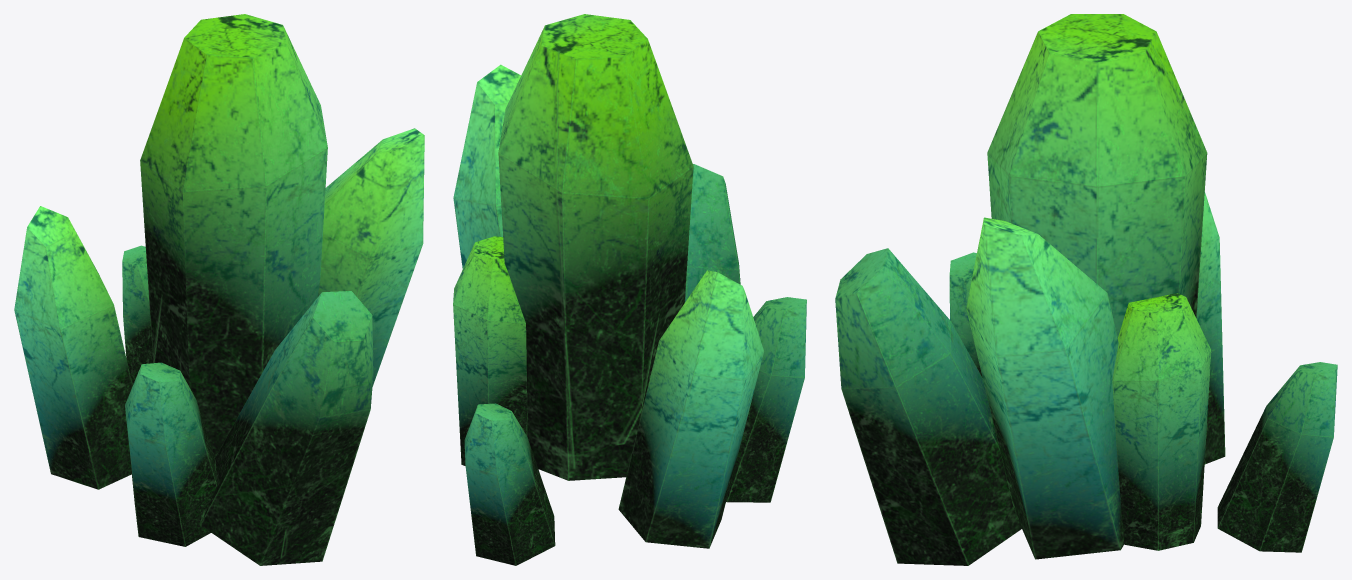
The model's file is rock_cluster.glb.
3 renders of one model, left to right at view 1: azimuth 30°, elevation 25°; view 2: azimuth 150°, elevation 25°; view 3: azimuth 270°, elevation 25°, orthographic. The views are drawn at different scales.
Visible parts, largest first — view 1: Cluster1_Cluster1_0; view 2: Cluster1_Cluster1_0; view 3: Cluster1_Cluster1_0.
Boxes of the visible parts, x1,y1,x2,y2 form: Cluster1_Cluster1_0: (14, 14, 424, 565); Cluster1_Cluster1_0: (453, 14, 806, 565); Cluster1_Cluster1_0: (835, 14, 1337, 565).
Bounding box in the file's own units: 57.97 × 76.81 × 66.31.
1 material, 1 textured.
